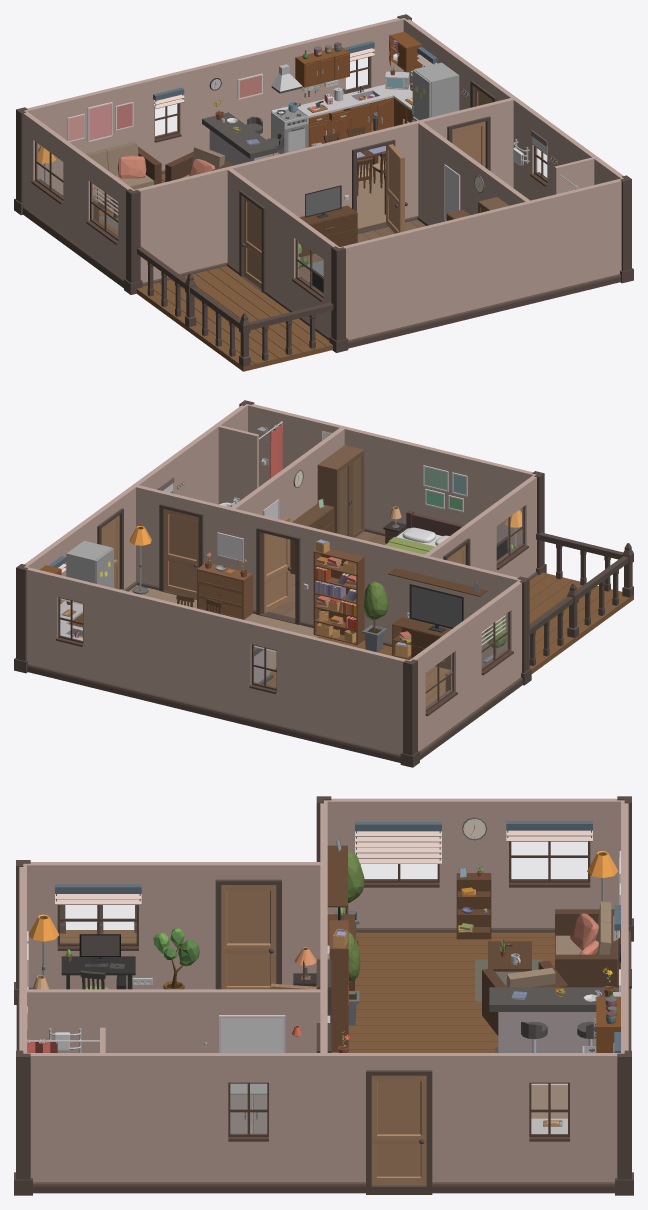
Rendered from Models.fbx.
3 views of the same model, one above another, from view 1: azimuth 30°, elevation 25°; view 2: azimuth 150°, elevation 25°; view 3: azimuth 270°, elevation 25° (orthographic). The views are drawn at different scales.
Parts seen in each view (by area): view 1: Wall1_1.010, Wall1_1.009, Wall1_1.011, Wall1_1.008, Wall1_3.002, Wall1_2.001, Wall1_2.005, Wall1_1.000, Wall1_2.003, Wall1_2.004, Wall1_2.006, Floor4.001 (+44 smaller); view 2: Wall1_1.000, Wall1_3.002, Wall1_1.006, Wall1_3.001, Wall1_1.010, Wall1_2.005, Wall1_2.002, Wall1_2.001, Wall1_2.003, Wall1_1.011, Wall1_1.005, Wall1_2.006 (+44 smaller); view 3: Wall1_1.002, Wall1_3.003, Wall1_3.005, Wall1_2-2, Wall1_2.001, Wall1_2.004, Wall1_2.005, Wall1_2.006, Wall1_1.004, Floor4.005, Floor4.003, Wall1_1.003 (+43 smaller).
Boxes of the visible parts, <box> form: Wall1_1.010: <box>433,202,531,326</box>; Wall1_1.009: <box>529,178,621,303</box>; Wall1_1.011: <box>338,224,436,348</box>; Wall1_1.008: <box>134,167,229,286</box>; Wall1_3.002: <box>117,63,215,174</box>; Wall1_2.001: <box>22,111,80,251</box>; Wall1_2.005: <box>74,150,134,288</box>; Wall1_1.000: <box>213,40,310,139</box>; Wall1_2.003: <box>323,120,420,233</box>; Wall1_2.004: <box>227,168,285,304</box>; Wall1_2.006: <box>279,208,340,340</box>; Floor4.001: <box>188,304,332,371</box>; Wall1_1.000: <box>117,590,217,717</box>; Wall1_3.002: <box>214,613,314,740</box>; Wall1_1.006: <box>311,637,410,762</box>; Wall1_3.001: <box>24,566,120,693</box>; Wall1_1.010: <box>344,426,441,536</box>; Wall1_2.005: <box>464,579,522,722</box>; Wall1_2.002: <box>135,484,232,599</box>; Wall1_2.001: <box>409,620,470,759</box>; Wall1_2.003: <box>230,508,329,627</box>; Wall1_1.011: <box>439,450,534,548</box>; Wall1_1.005: <box>327,532,426,646</box>; Wall1_2.006: <box>479,474,537,580</box>; Wall1_1.002: <box>23,1053,173,1193</box>; Wall1_3.003: <box>173,1053,323,1193</box>; Wall1_3.005: <box>474,1053,620,1193</box>; Wall1_2-2: <box>324,1053,474,1194</box>; Wall1_2.001: <box>474,798,620,932</box>; Wall1_2.004: <box>173,862,320,989</box>; Wall1_2.005: <box>324,798,474,932</box>; Wall1_2.006: <box>23,862,173,989</box>; Wall1_1.004: <box>23,989,173,1052</box>; Floor4.005: <box>348,993,474,1052</box>; Floor4.003: <box>355,932,474,993</box>; Wall1_1.003: <box>173,989,323,1052</box>.
Size of the model in its own units: 825 by 203 by 824.
